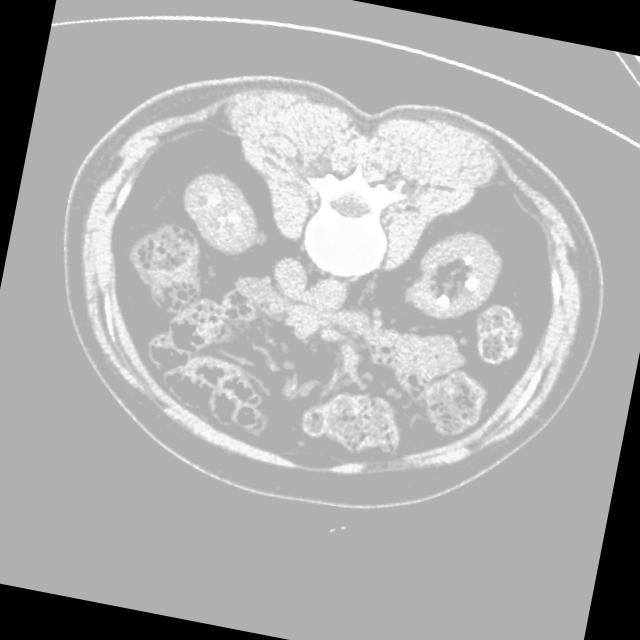STONE: (132, 111, 518, 380)
